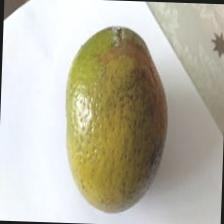Orange Rotten: (44, 16, 176, 220)
